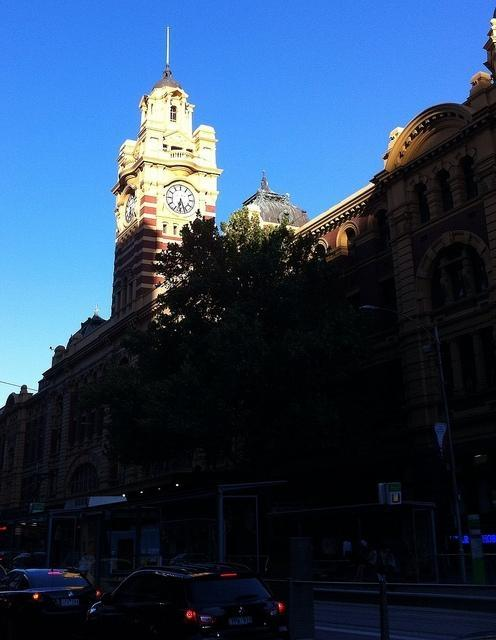car: (84, 564, 292, 640), (0, 567, 104, 639)
